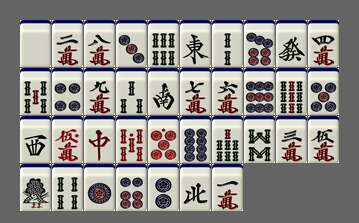0m: (52, 116, 83, 163)
0p: (148, 116, 179, 163)
0s: (116, 116, 147, 163)
1m: (212, 164, 243, 211)
1p: (84, 164, 115, 211)
1s: (20, 164, 51, 211)
1z: (180, 20, 211, 67)
2m: (52, 20, 83, 67)
2p: (148, 164, 179, 211)
2s: (212, 20, 243, 67)
2z: (148, 68, 179, 115)
3m: (276, 116, 307, 163)
3p: (116, 20, 147, 67)
3s: (116, 68, 147, 115)
3z: (20, 116, 51, 163)
4m: (308, 20, 339, 67)
4p: (52, 68, 83, 115)
4s: (52, 164, 83, 211)
4z: (180, 164, 211, 211)
5m: (308, 116, 339, 163)
5p: (308, 68, 339, 115)
5s: (20, 68, 51, 115)
5z: (20, 20, 51, 67)
6m: (212, 68, 243, 115)
6p: (116, 164, 147, 211)
6s: (148, 20, 179, 67)
6z: (276, 20, 307, 67)
7m: (180, 68, 211, 115)
7p: (244, 20, 275, 67)
7s: (212, 116, 243, 163)
7z: (84, 116, 115, 163)
8m: (84, 20, 115, 67)
8p: (180, 116, 211, 163)
8s: (244, 116, 275, 163)
9m: (84, 68, 115, 115)
9p: (244, 68, 275, 115)
9s: (276, 68, 307, 115)
